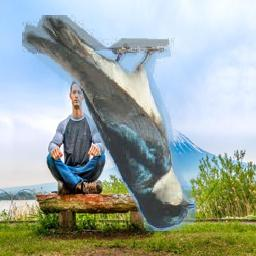Swallow: (22, 15, 196, 231)
